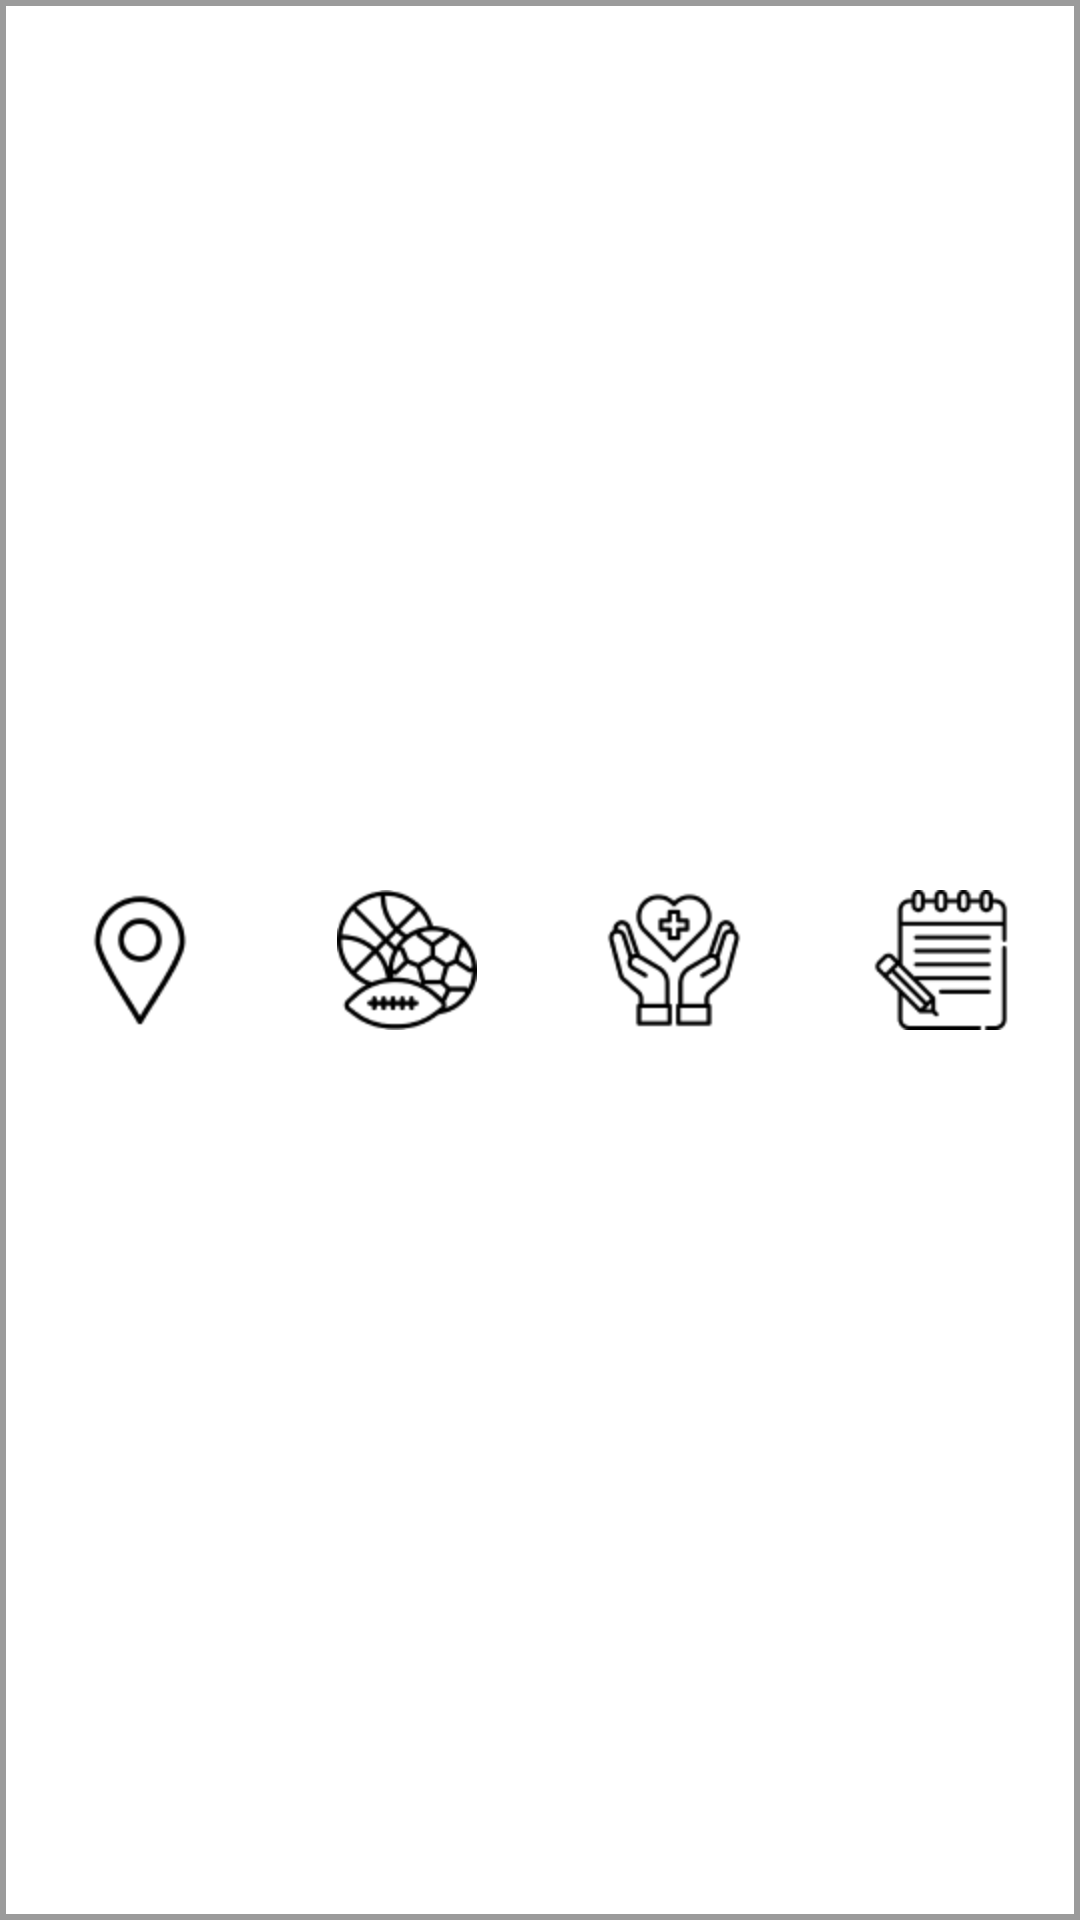

Screen size 1080w x 1920h. Icon name, then its box in pixels as [x1=x1, y1=y1, x2=x2, y2=y2]:
Добавить заметку: [x1=874, y1=890, x2=1008, y2=1030]
Здоровье: [x1=607, y1=893, x2=741, y2=1027]
Карта магазинов: [x1=93, y1=895, x2=187, y2=1025]
Спорт: [x1=337, y1=890, x2=477, y2=1030]
